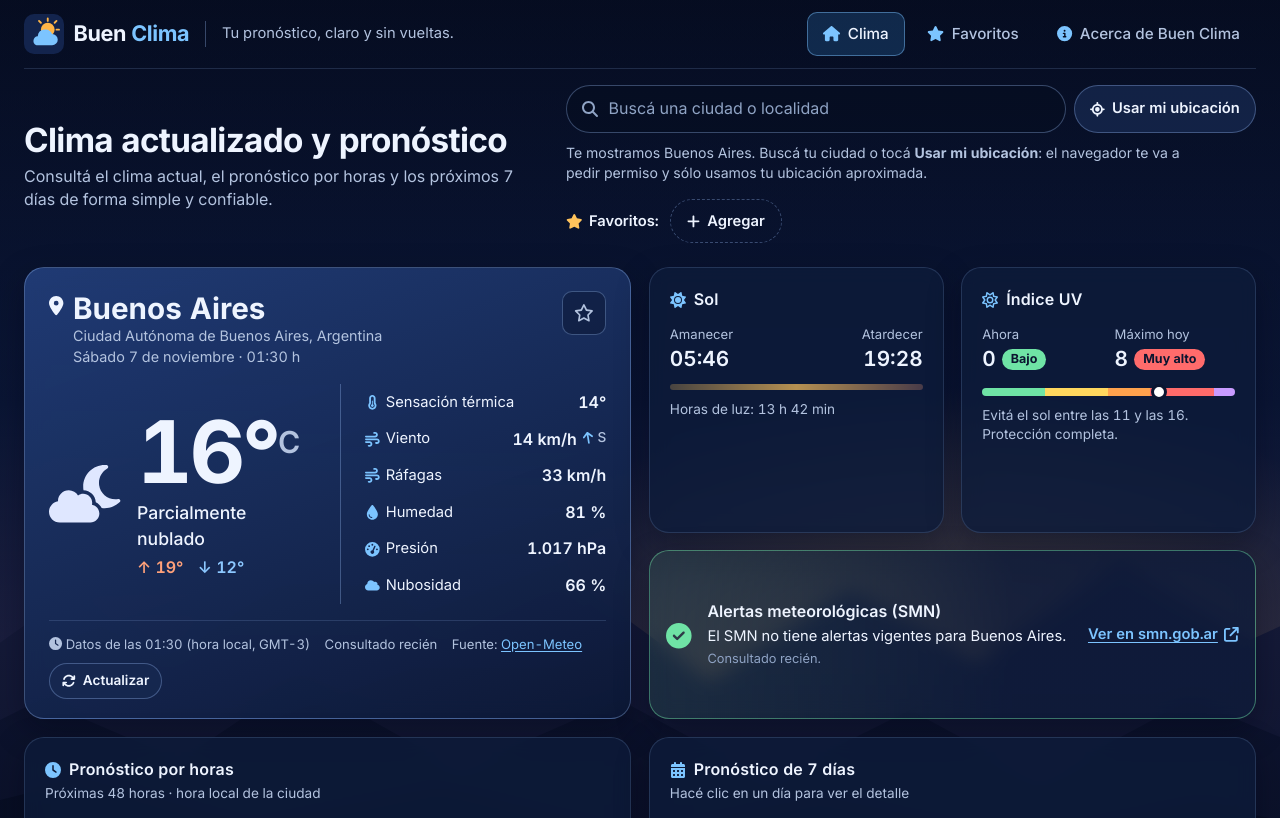
Scenario: App › si falla una actualización, conserva los datos y lo avisa
Expected: the heading "Buenos Aires" is shown, [73,290,266,326]
Click the button "Actualizar": x=106, y=681 [49,663,162,699]
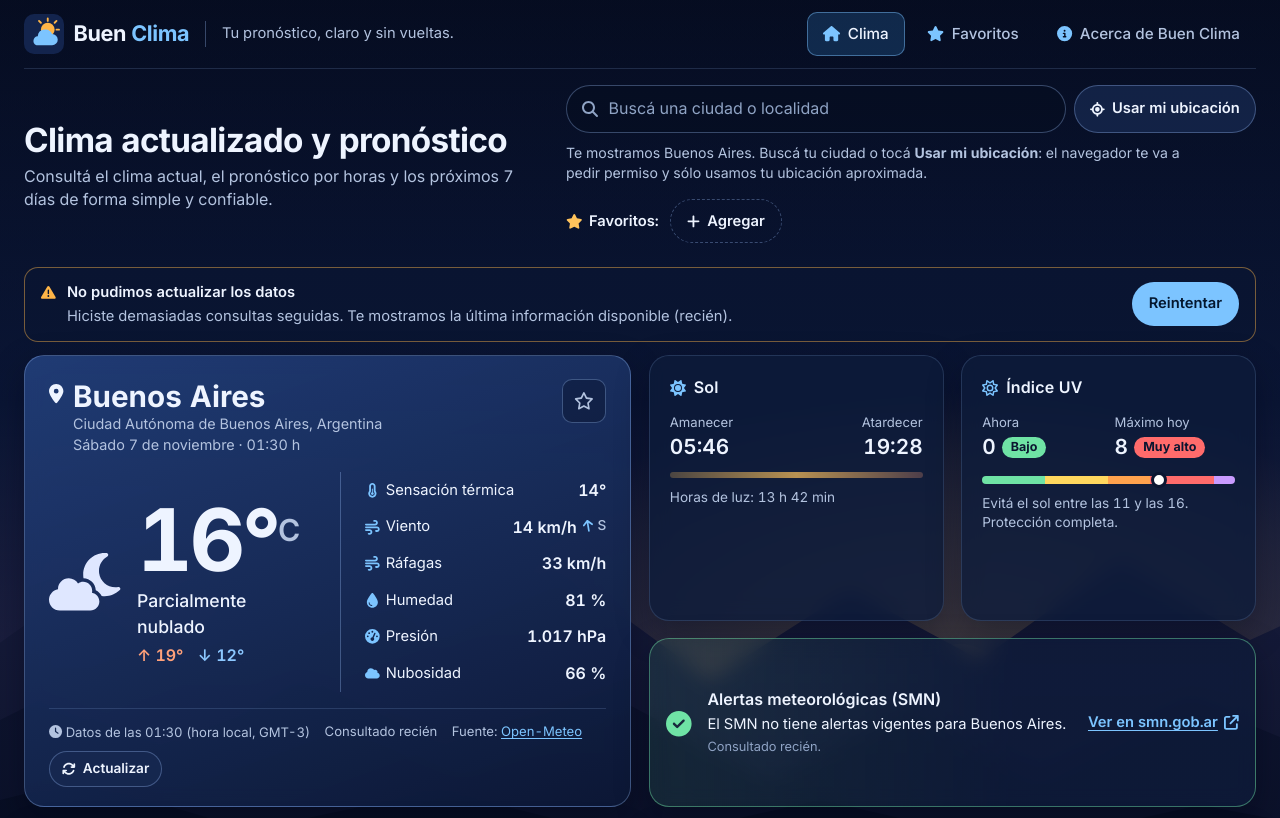
Expected: the heading "Buenos Aires" is shown, [73,378,266,414]
Expected: the text "No pudimos actualizar los datos" is shown, [67,283,295,301]
